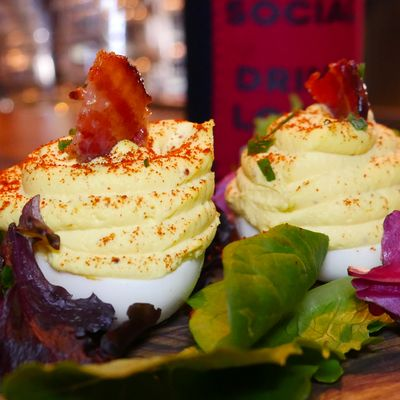soup: (0, 50, 221, 366)
